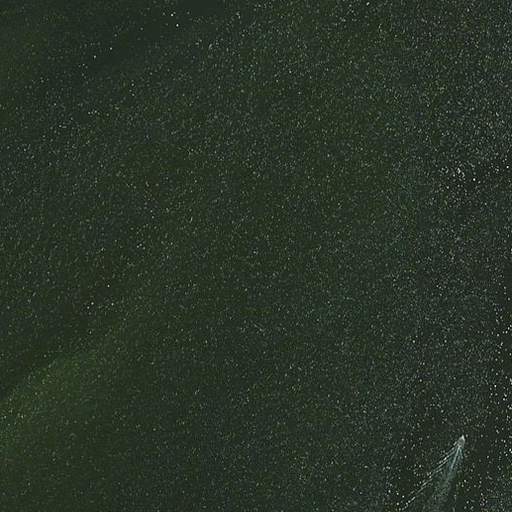ship: (452, 432, 467, 452)
